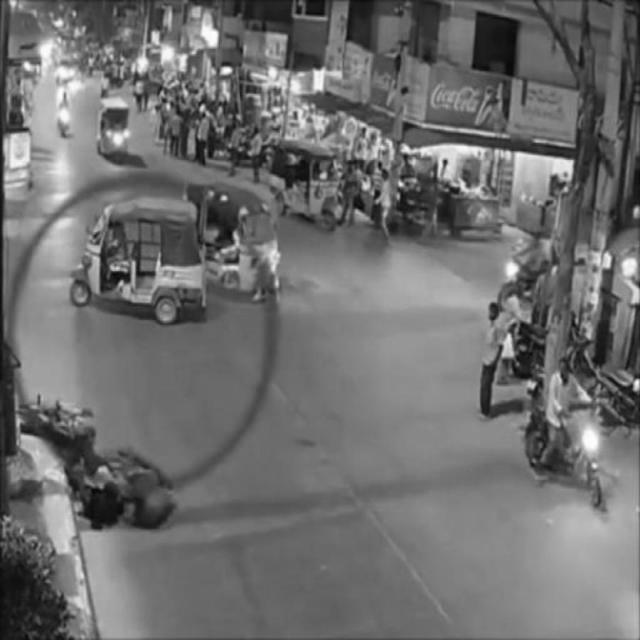person: (480, 298, 504, 422), (496, 279, 518, 389), (377, 170, 399, 243)
vehicle: (69, 201, 206, 325), (184, 182, 282, 310), (525, 357, 606, 505), (274, 142, 340, 233), (100, 101, 132, 163)
